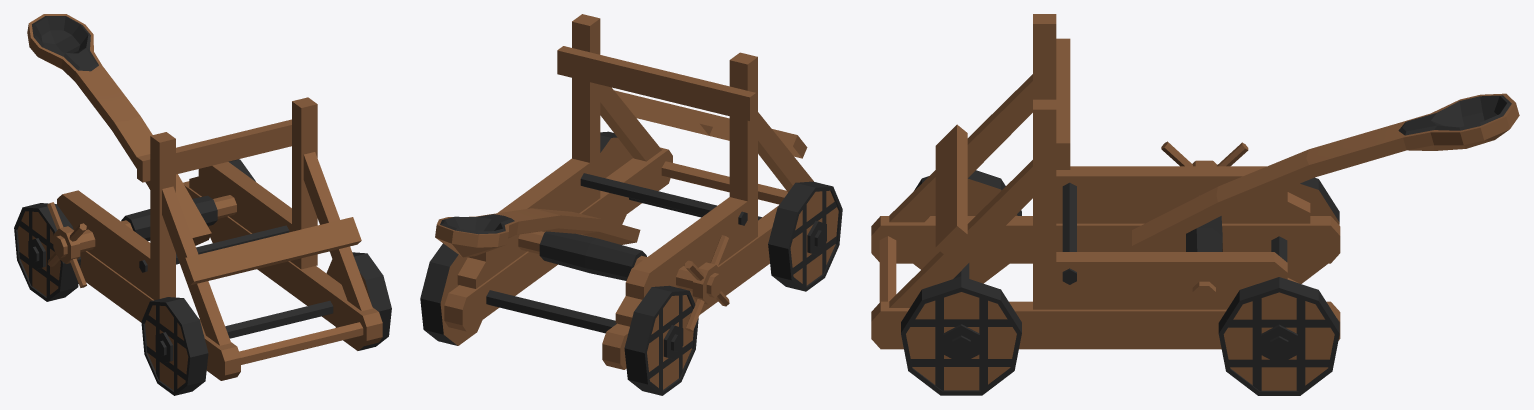
The model's file is medieval_catapult.fbx.
3 views of the same model, side by side, from view 1: azimuth 30°, elevation 25°; view 2: azimuth 150°, elevation 25°; view 3: azimuth 270°, elevation 25° (orthographic). The views are drawn at different scales.
Visible parts, largest first — view 1: catapult_base, catapult_wheels_back, catapult_projectile, catapult_wheels_front; view 2: catapult_base, catapult_wheels_front, catapult_wheels_back, catapult_projectile; view 3: catapult_base, catapult_wheels_front, catapult_wheels_back, catapult_projectile.
Boxes of the visible parts, <box> form: catapult_base: <box>47,97,382,380</box>; catapult_wheels_back: <box>141,252,391,395</box>; catapult_projectile: <box>27,14,211,245</box>; catapult_wheels_front: <box>14,159,255,301</box>; catapult_base: <box>444,14,813,369</box>; catapult_wheels_front: <box>420,243,698,395</box>; catapult_wheels_back: <box>600,131,842,291</box>; catapult_projectile: <box>435,208,640,257</box>; catapult_base: <box>871,14,1340,349</box>; catapult_wheels_front: <box>1218,177,1339,395</box>; catapult_wheels_back: <box>901,170,1021,395</box>; catapult_projectile: <box>1132,93,1519,251</box>.
Size of the model in its own units: 96.04 by 93 by 200.
